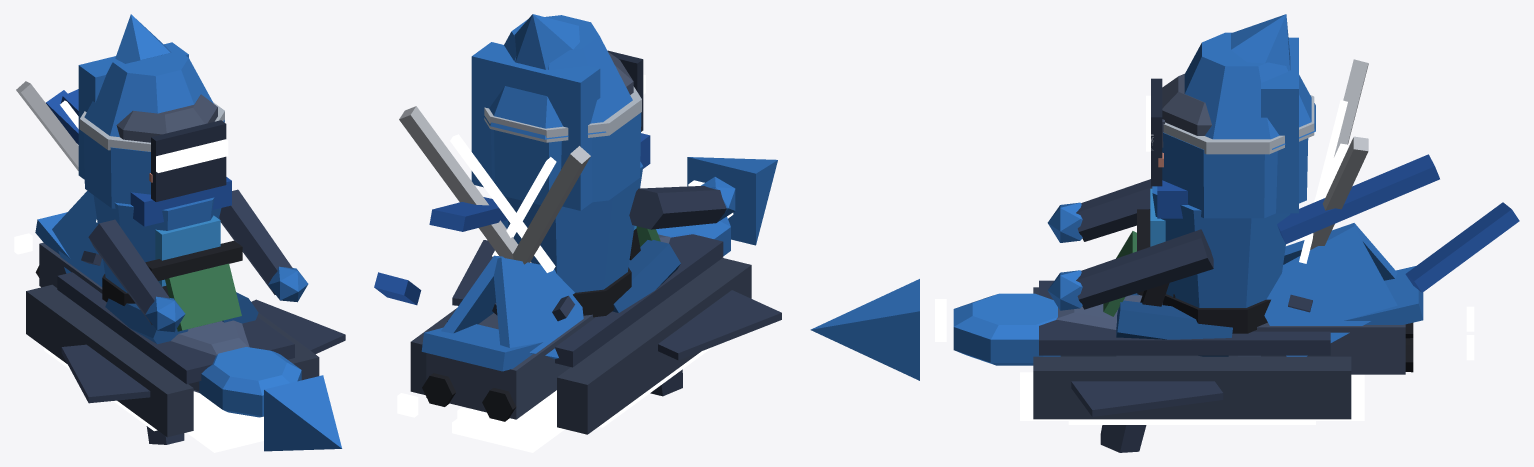
File: hero_danny.glb
3 renders of one model, left to right at view 1: azimuth 30°, elevation 25°; view 2: azimuth 150°, elevation 25°; view 3: azimuth 270°, elevation 25°, orthographic. The views are drawn at different scales.
Visible parts, largest first — view 1: body, glow, arm_l, arm_r; view 2: body, glow, arm_l; view 3: body, arm_r, glow, arm_l.
Boxes of the visible parts, x1,y1,x2,y2 form: body: (16, 14, 345, 451); glow: (14, 100, 263, 452); arm_l: (88, 219, 185, 332); arm_r: (219, 189, 308, 302); body: (374, 14, 781, 434); glow: (397, 74, 733, 452); arm_l: (629, 177, 735, 229); body: (810, 14, 1519, 452); arm_r: (1047, 229, 1213, 310); glow: (935, 95, 1474, 424); arm_l: (1047, 179, 1152, 242).
Bounding box in the file's own units: 0.8775 × 1.19 × 1.86.
